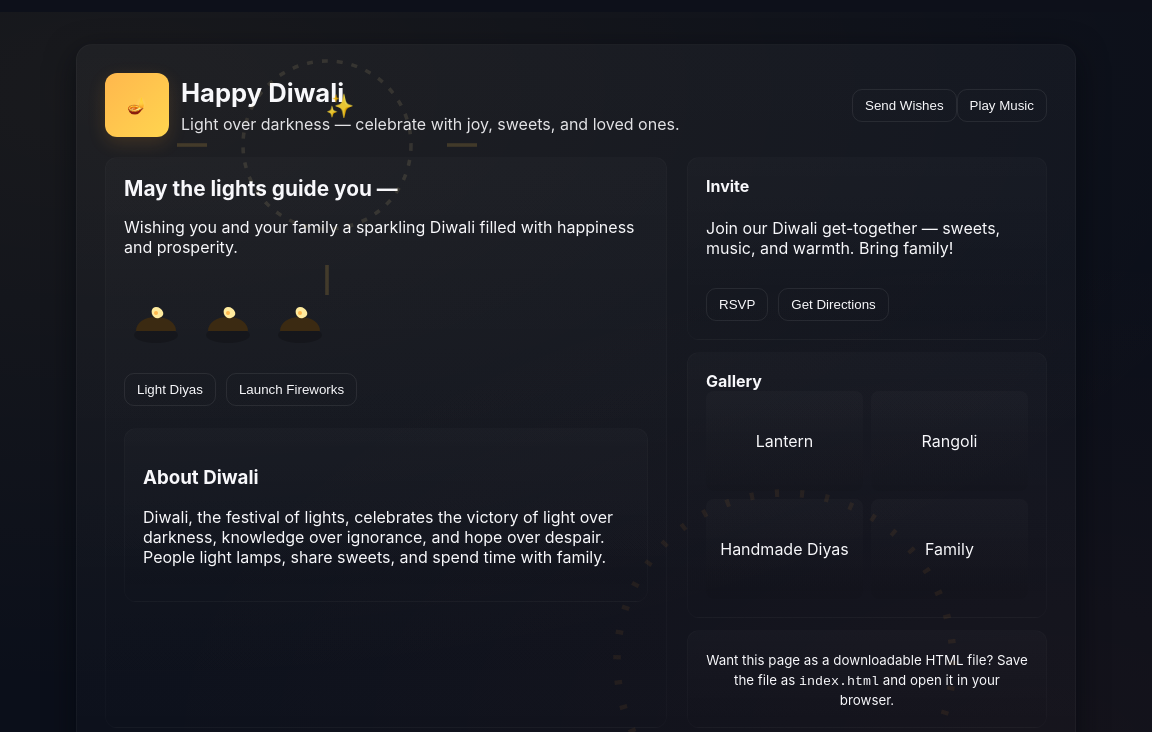
Test: 🎇 DiwaliPage Component Tests › replaces toast if another button is clicked before timeout
Click the button "Light Diyas".
click(170, 390)  # box [124,373,216,406]
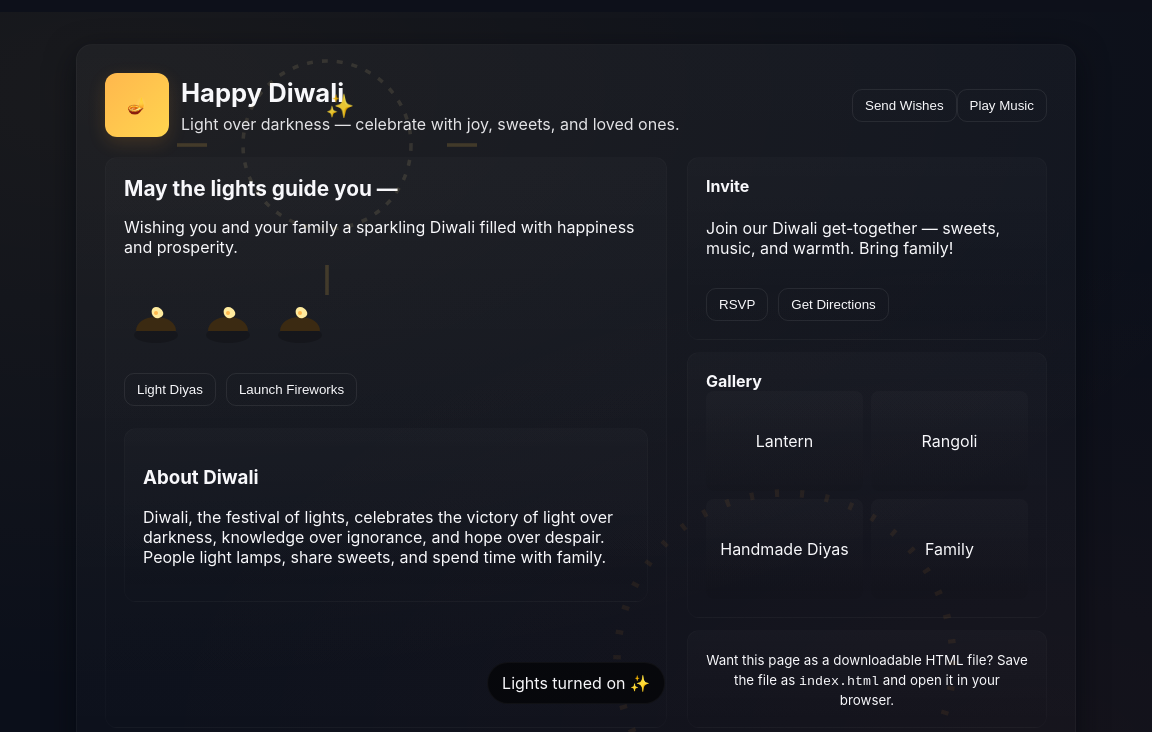
Expected: the text "Lights turned on ✨" is shown, [487,662,665,704]
Click the button "Launch Fireworks".
click(292, 390)  # box [226,373,357,406]
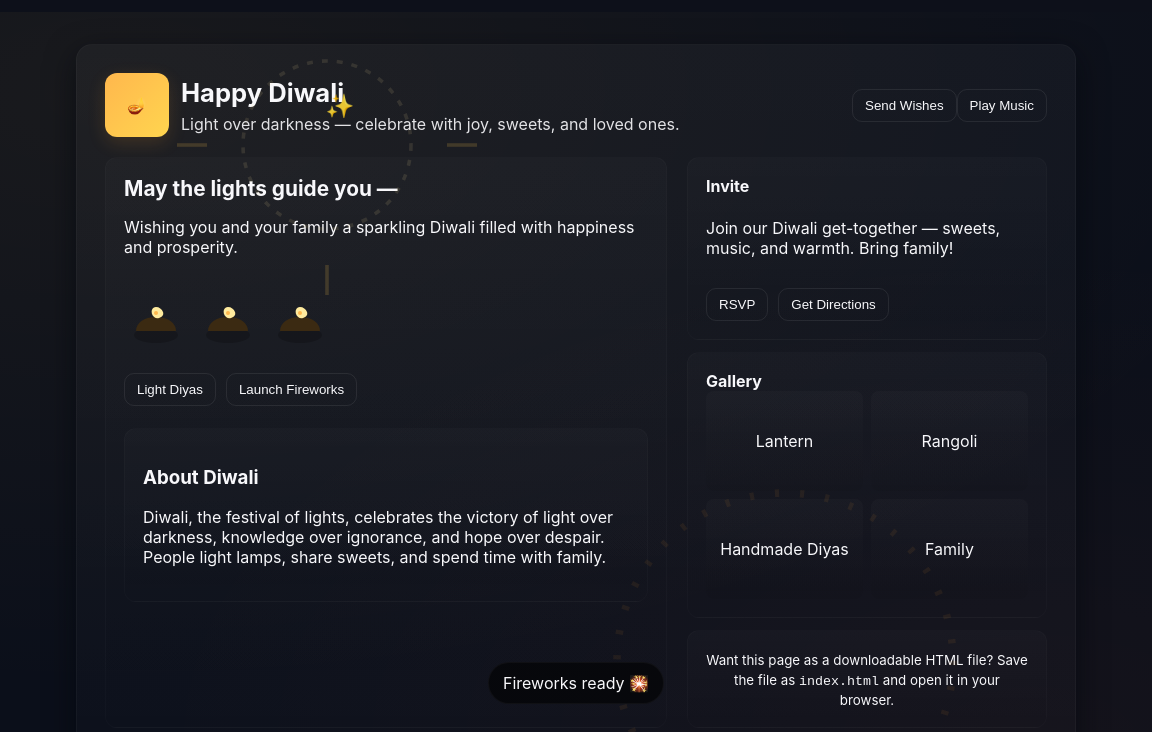
Expected: the text "Fireworks ready 🎇" is shown, [488,662,664,704]
Expected: the text "Lights turned on ✨" is gone
